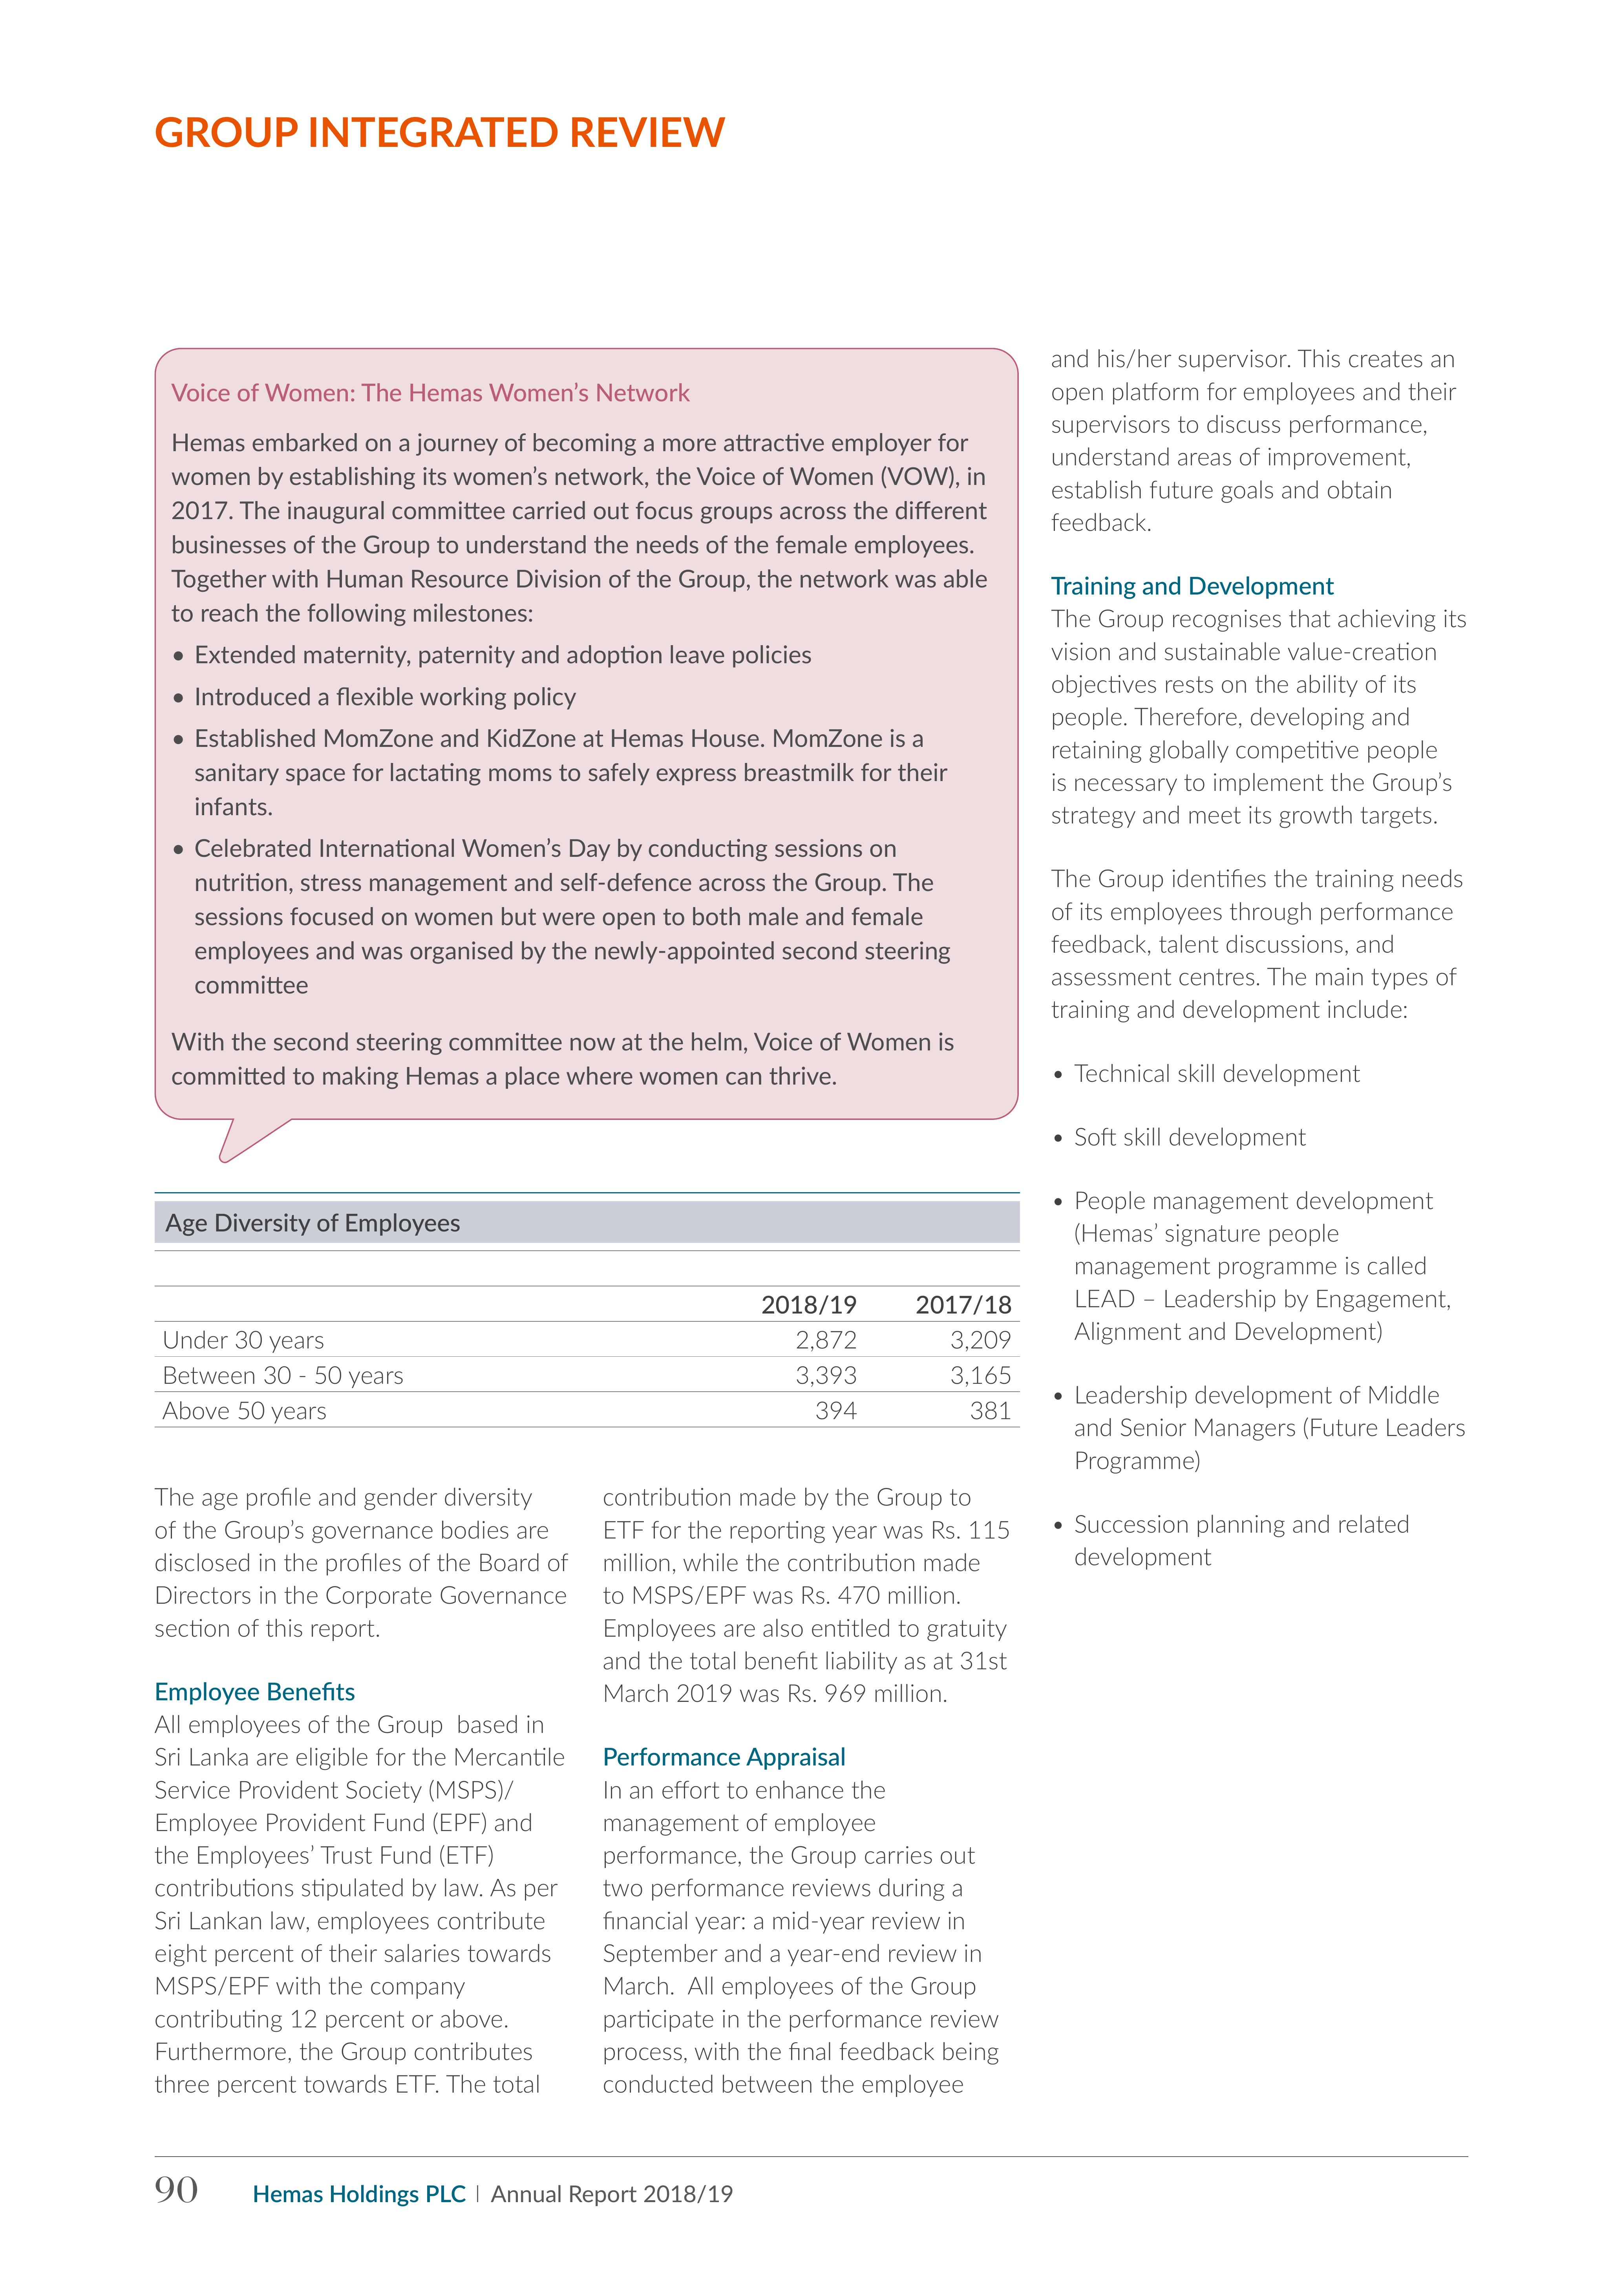table: (146, 1182, 1031, 1440)
